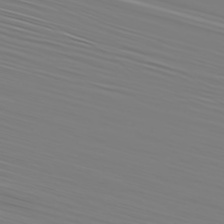cavities: (46, 76, 99, 136)
